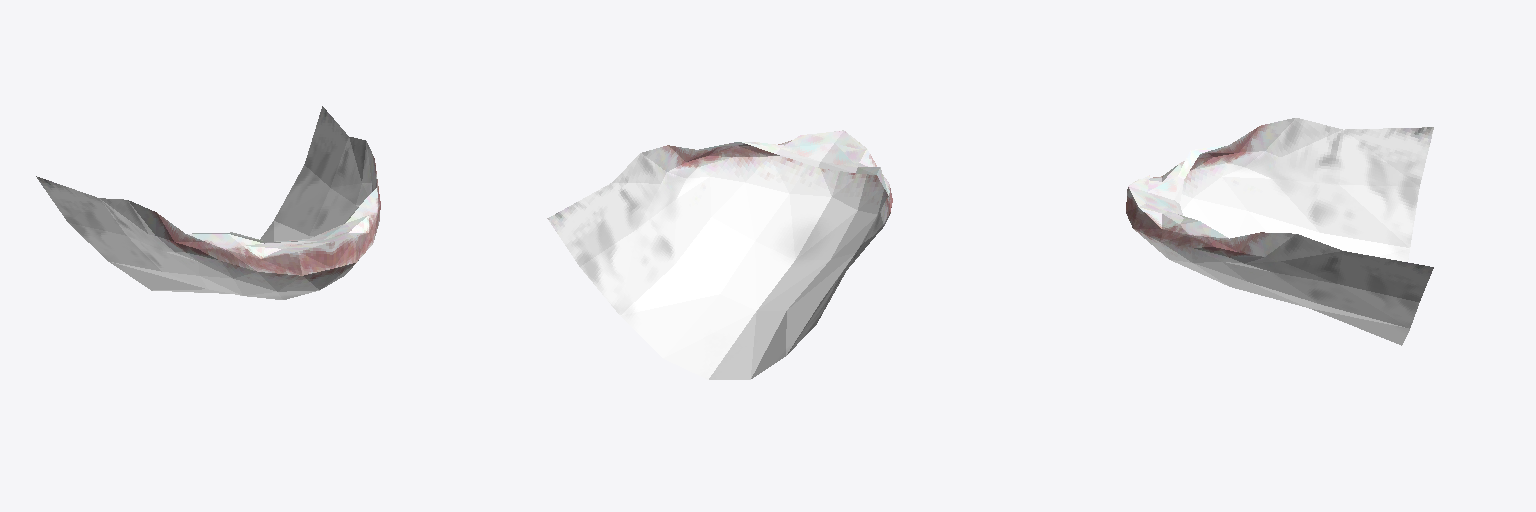
3 views of the same model, side by side, from view 1: azimuth 30°, elevation 25°; view 2: azimuth 150°, elevation 25°; view 3: azimuth 270°, elevation 25° (orthographic).
Visible parts, largest first — view 1: Shark_Mesh; view 2: Shark_Mesh; view 3: Shark_Mesh.
Part boxes in pixels (bbox=[...]): Shark_Mesh: bbox=[36, 106, 380, 299]; Shark_Mesh: bbox=[547, 130, 892, 379]; Shark_Mesh: bbox=[1126, 118, 1433, 345].
Bounding box in the file's own units: 73.59 × 39.33 × 68.47.
Materials: 1 (1 with a texture image).